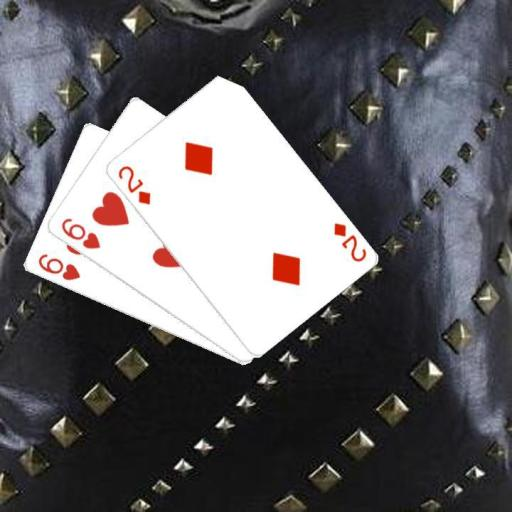2D: (330, 219, 368, 264), (114, 162, 152, 206)
6H: (58, 215, 102, 251), (34, 251, 82, 283)
